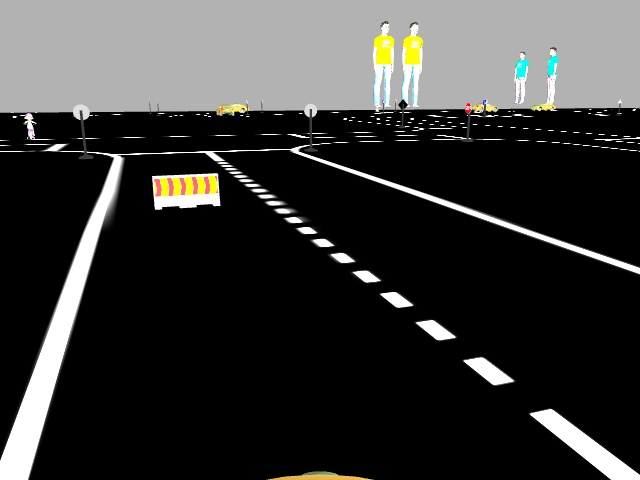ClosedRoadStand: (150, 176, 219, 205)
